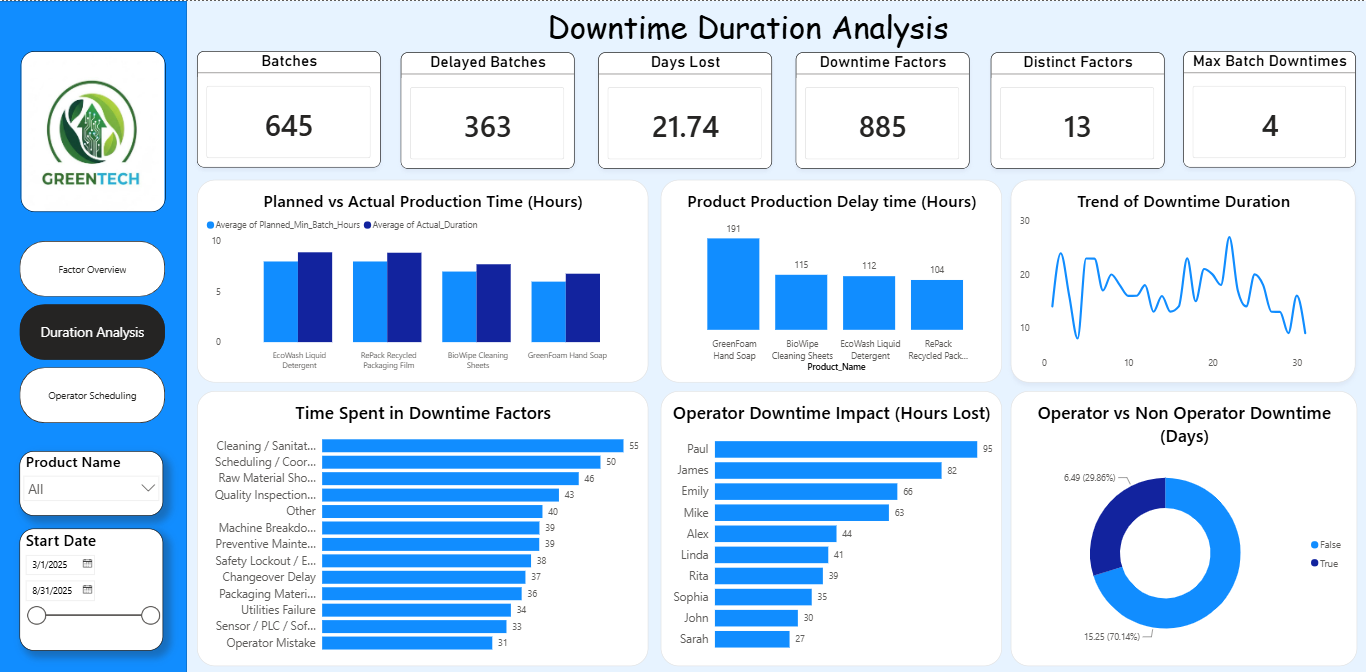

The dashboard page shown, as its layout file describes it:
{"tool":"powerbi","page":{"name":"Duration Analysis","canvas":[1900,930],"ordinal":1},"visuals":[{"type":"textbox","box":[645.5,0,795.7,89.8],"z":0},{"type":"shape","box":[0,0,262.4,930.3],"z":2000},{"type":"cardVisual","title":"Batches","fields":{"Data":["CountNonNull(batch_pd.Batch_ID)"]},"box":[276.2,69,253.7,160.5],"z":3000},{"type":"cardVisual","title":"Delayed Batches","fields":{"Data":["Count(downtimes.BATCH_ID)"]},"box":[557.5,70.8,239.9,160.5],"z":4000},{"type":"cardVisual","title":"Days Lost","fields":{"Data":["Sum(downtimes.Days)"]},"box":[830.2,70.8,239.9,160.5],"z":5000},{"type":"cardVisual","title":"Downtime Factors","fields":{"Data":["CountNonNull(downtimes.Factor_ID)"]},"box":[1102.9,70.8,239.9,160.5],"z":6000},{"type":"cardVisual","title":"Distinct Factors","fields":{"Data":["Count(downtimes.Factor_ID)"]},"box":[1372.2,70.8,239.9,160.5],"z":7000},{"type":"cardVisual","title":"Max Batch Downtimes","fields":{"Data":["downtimes.Max Downtime Per Batch"]},"box":[1638,69,238.2,160.5],"z":8000},{"type":"clusteredColumnChart","title":"Planned vs Actual Production Time (Hours)","fields":{"Category":["products.Product_Name"],"Y":["Avg(batch_pd.Planned_Min_Batch_Hours)","Avg(batch_pd.Actual_Duration)"]},"box":[276.2,246.8,623.1,279.6],"z":9000},{"type":"clusteredColumnChart","title":"Product Production Delay time (Hours)","fields":{"Category":["products.Product_Name"],"Y":["Sum(downtimes.Hour)"]},"box":[916.5,246.8,471.2,279.6],"z":10000},{"type":"lineChart","title":"Trend of Downtime Duration","fields":{"Category":["batch_pd.Start_Date.Variation.Date Hierarchy.Year","batch_pd.Start_Date.Variation.Date Hierarchy.Quarter","batch_pd.Start_Date.Variation.Date Hierarchy.Month","batch_pd.Start_Date.Variation.Date Hierarchy.Day"],"Y":["Sum(downtimes.Hour)"]},"box":[1399.8,246.8,476.4,279.6],"z":11000},{"type":"barChart","title":"Time Spent in Downtime Factors","fields":{"Category":["downtime_factors.Factor_Name"],"Y":["Sum(downtimes.Hour)"]},"box":[276.2,538.5,623.1,379.7],"z":12000},{"type":"barChart","title":"Operator Downtime Impact (Hours Lost)","fields":{"Category":["batch_pd.Operator"],"Y":["Sum(downtimes.Hour)"]},"box":[916.5,538.5,471.2,379.7],"z":13000},{"type":"donutChart","title":" Operator vs Non Operator Downtime (Days)","fields":{"Y":["Sum(downtimes.Days)"],"Series":["downtime_factors.Operator_Error"]},"box":[1399.8,538.5,478.1,379.7],"z":14000},{"type":"slicer","fields":{"Values":["products.Product_Name"]},"box":[31.1,621.4,198.5,89.8],"z":15000},{"type":"slicer","fields":{"Values":["batch_pd.Start_Date"]},"box":[31.1,728.4,198.5,169.2],"z":16000},{"type":"image","box":[32.1,69.5,199.6,222.8],"z":17000},{"type":"pageNavigator","box":[30.3,331.5,201.4,253.1],"z":18000}]}

Visuals, with their boxes in screenshot pixels (x1, y1, x2, y2), scaled from the page's 1900x930 canvas onto the 1366x672 screenshot:
textbox: rect(464, 0, 1036, 65)
shape: rect(0, 0, 189, 671)
"Batches" cardVisual: rect(199, 50, 381, 166)
"Delayed Batches" cardVisual: rect(401, 51, 573, 167)
"Days Lost" cardVisual: rect(597, 51, 769, 167)
"Downtime Factors" cardVisual: rect(793, 51, 965, 167)
"Distinct Factors" cardVisual: rect(987, 51, 1159, 167)
"Max Batch Downtimes" cardVisual: rect(1178, 50, 1349, 166)
"Planned vs Actual Production Time (Hours)" clusteredColumnChart: rect(199, 178, 647, 380)
"Product Production Delay time (Hours)" clusteredColumnChart: rect(659, 178, 998, 380)
"Trend of Downtime Duration" lineChart: rect(1006, 178, 1349, 380)
"Time Spent in Downtime Factors" barChart: rect(199, 389, 647, 663)
"Operator Downtime Impact (Hours Lost)" barChart: rect(659, 389, 998, 663)
" Operator vs Non Operator Downtime (Days)" donutChart: rect(1006, 389, 1350, 663)
slicer - products.Product_Name: rect(22, 449, 165, 514)
slicer - batch_pd.Start_Date: rect(22, 526, 165, 649)
image: rect(23, 50, 167, 211)
pageNavigator: rect(22, 240, 167, 422)
